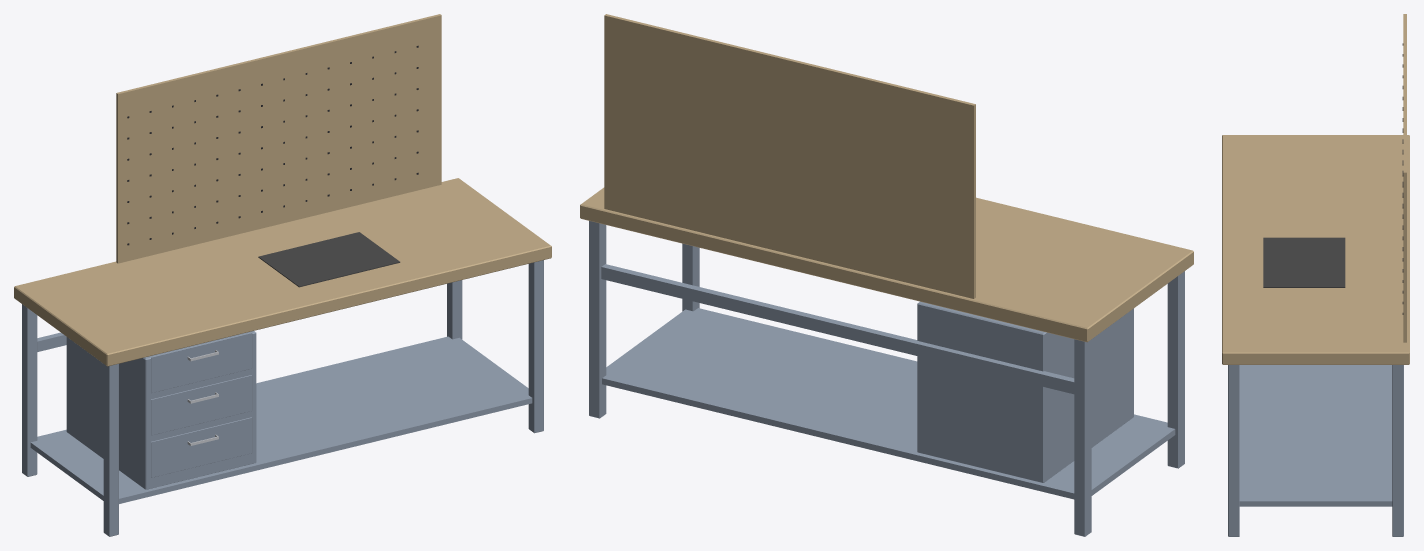
The model's file is workbench.fbx.
3 views of the same model, side by side, from view 1: azimuth 30°, elevation 25°; view 2: azimuth 150°, elevation 25°; view 3: azimuth 270°, elevation 25° (orthographic). The views are drawn at different scales.
Visible parts, largest first — view 1: Bench; view 2: Bench; view 3: Bench.
Part boxes in pixels (box(x1,y1,x2,y2)): Bench: box(14, 14, 551, 536); Bench: box(580, 14, 1193, 536); Bench: box(1222, 14, 1409, 536).
Bounding box in the file's own units: 2.2 × 1.68 × 0.8.
